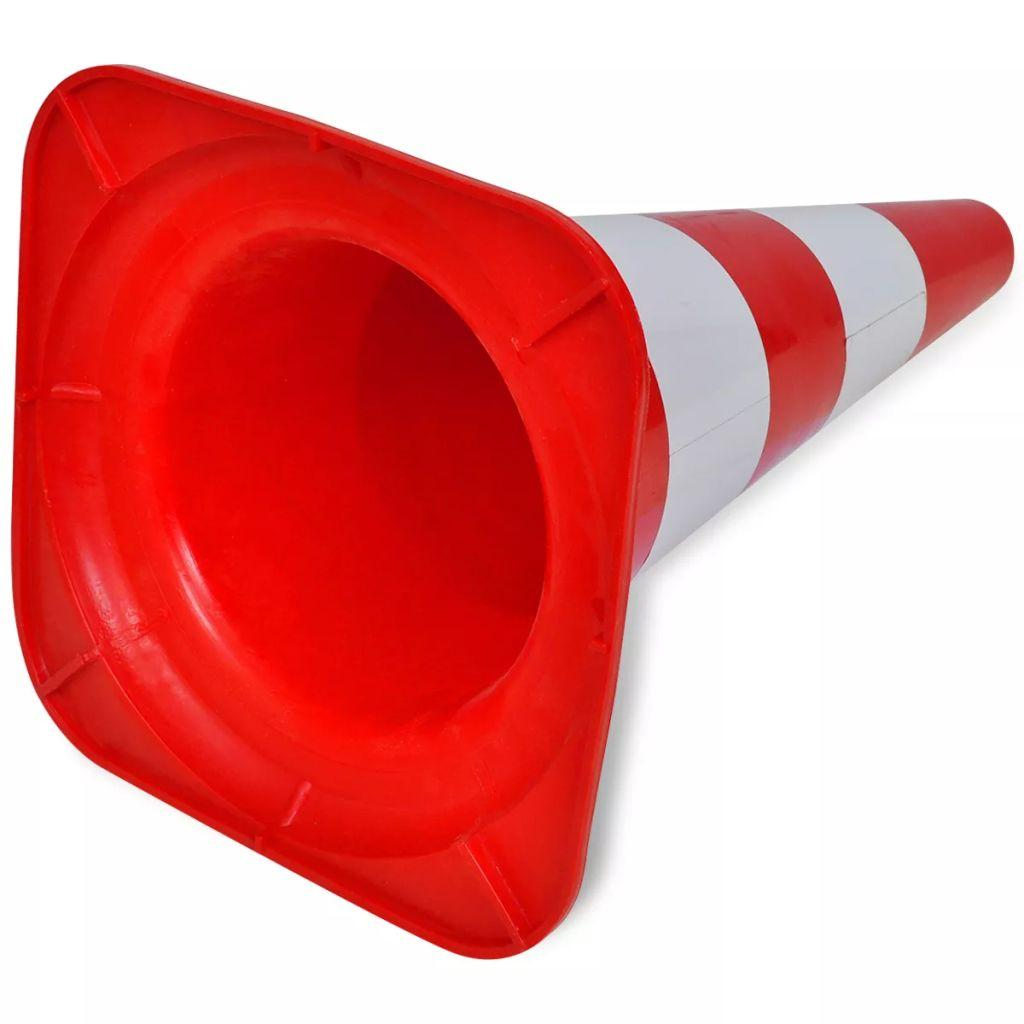traffic_cone: (10, 61, 1015, 960)
